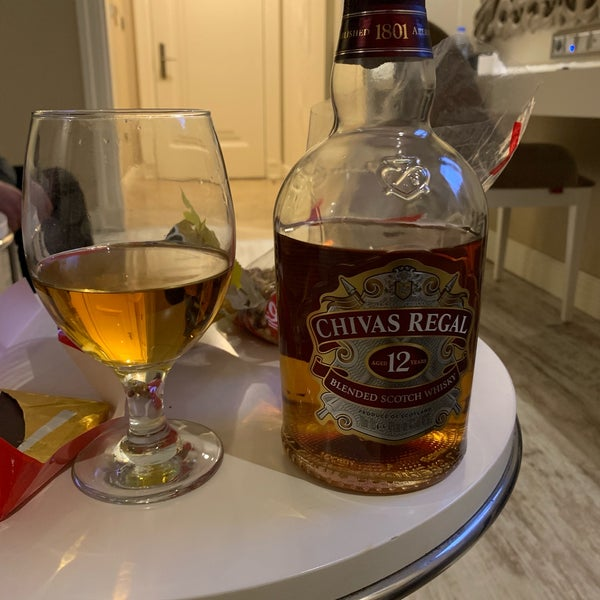Chivas Regal: (268, 1, 493, 501)
